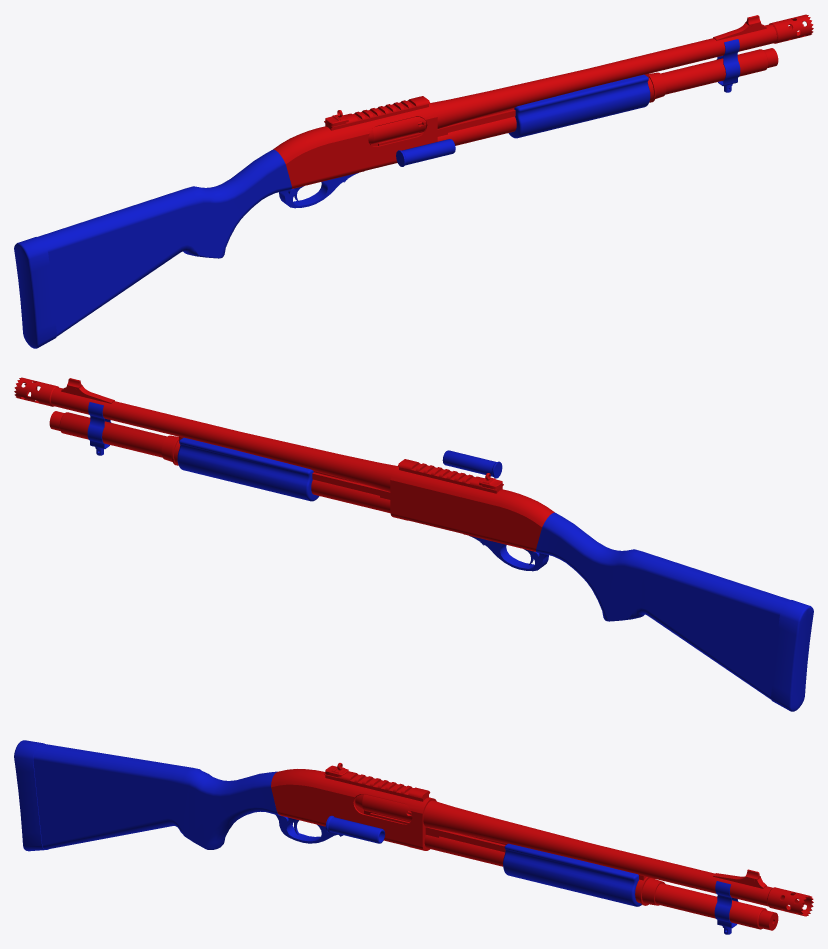
Rendered from 1-Remington870.obj.
3 views of the same model, one above another, from view 1: azimuth 30°, elevation 25°; view 2: azimuth 150°, elevation 25°; view 3: azimuth 330°, elevation 25° (orthographic).
Visible parts, largest first — view 1: gun_Cube.011, pump_Cube.009, bullet_Cylinder.012, slider_Cylinder.011; view 2: gun_Cube.011, pump_Cube.009, bullet_Cylinder.012; view 3: gun_Cube.011, pump_Cube.009, bullet_Cylinder.012, slider_Cylinder.011.
Part boxes in pixels (box(x1,y1,x2,y2)): gun_Cube.011: box(14, 14, 813, 348); pump_Cube.009: box(370, 74, 650, 145); bullet_Cylinder.012: box(396, 139, 455, 166); slider_Cylinder.011: box(368, 117, 426, 144); gun_Cube.011: box(14, 377, 813, 711); pump_Cube.009: box(177, 437, 390, 501); bullet_Cylinder.012: box(442, 450, 502, 478); gun_Cube.011: box(14, 740, 813, 934); pump_Cube.009: box(370, 813, 641, 906); bullet_Cylinder.012: box(325, 815, 385, 843); slider_Cylinder.011: box(355, 794, 412, 821).
Size of the model in its own units: 1.06 by 0.2081 by 0.1133.
